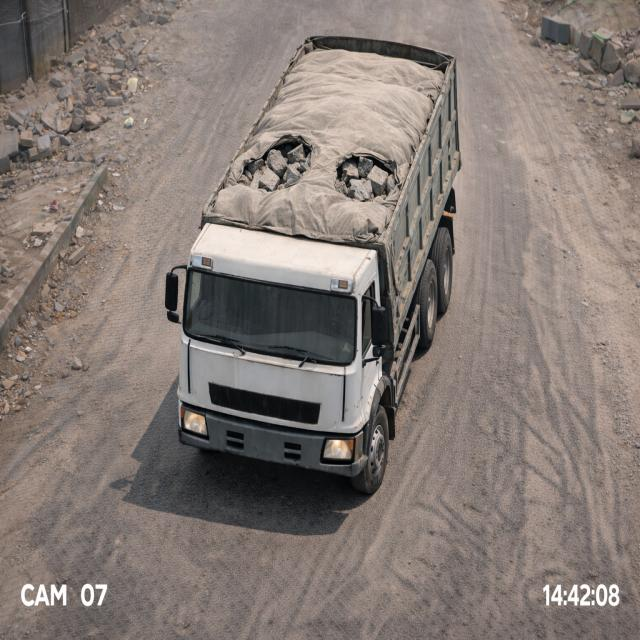Box: (199, 36, 453, 243)
Truck: (169, 33, 495, 491)
